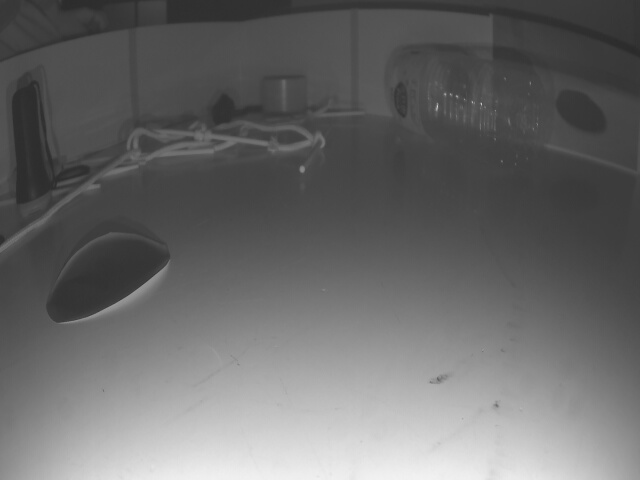Dead: (212, 94, 240, 125)
